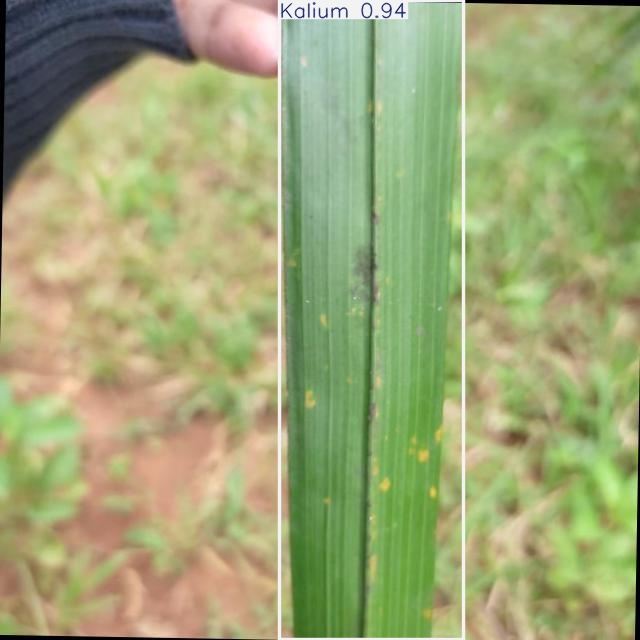Kalium: (279, 0, 463, 640)
